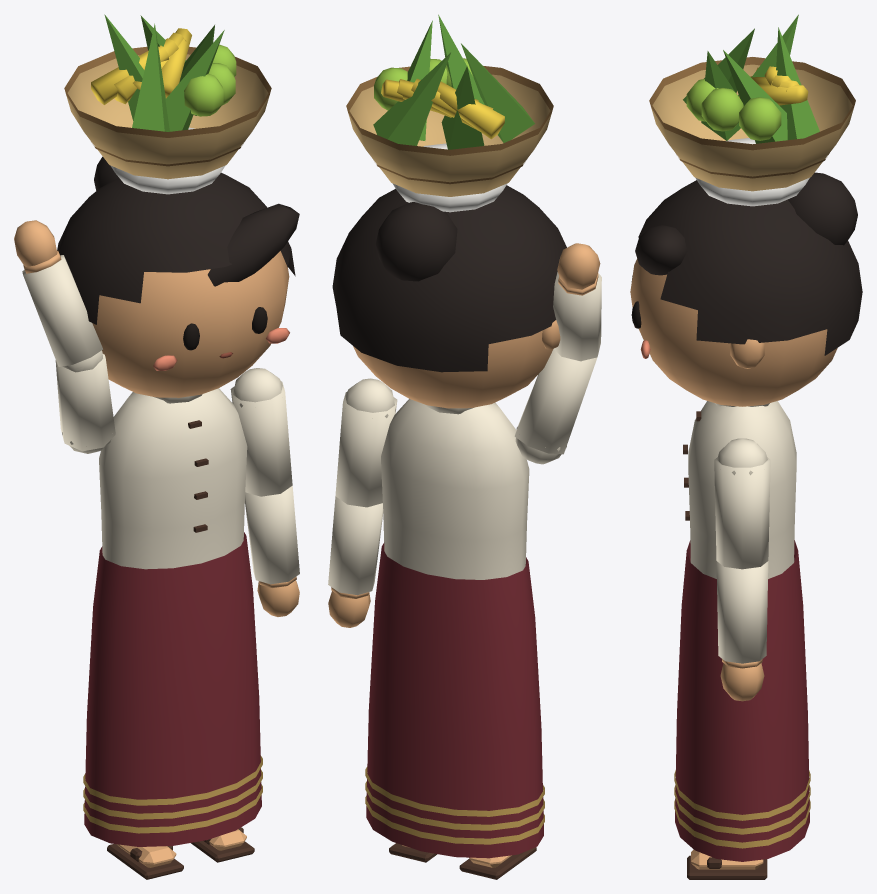
Rendered from west_head_basket_woman.glb.
3 renders of one model, left to right at view 1: azimuth 30°, elevation 25°; view 2: azimuth 150°, elevation 25°; view 3: azimuth 270°, elevation 25°, orthographic.
Parts seen in each view (by area): view 1: body, head, prop_head_basket, forearm_R, arm_L, forearm_L, arm_R, shin_R, shin_L; view 2: body, head, prop_head_basket, arm_L, forearm_L, arm_R, forearm_R, shin_R; view 3: head, body, prop_head_basket, arm_L, forearm_L, shin_L.
Part boxes in pixels (x1,y1,x2,y2): body: (83, 388, 262, 846); head: (57, 156, 299, 397); prop_head_basket: (64, 14, 271, 194); forearm_R: (14, 220, 102, 372); arm_L: (230, 368, 292, 496); forearm_L: (245, 486, 299, 616); arm_R: (55, 350, 115, 453); shin_R: (107, 844, 183, 879); shin_L: (191, 827, 254, 862); body: (365, 399, 544, 858); head: (332, 185, 566, 408); prop_head_basket: (346, 14, 553, 212); arm_L: (335, 378, 397, 507); forearm_L: (328, 496, 383, 627); arm_R: (514, 349, 597, 464); forearm_R: (553, 243, 601, 361); shin_R: (459, 847, 536, 879); head: (630, 172, 862, 406); body: (674, 401, 810, 861); prop_head_basket: (649, 14, 855, 206); arm_L: (714, 438, 770, 569); forearm_L: (716, 561, 768, 701); shin_L: (687, 849, 767, 879).
Size of the model in its own units: 0.6195 by 1.78 by 0.4567.
